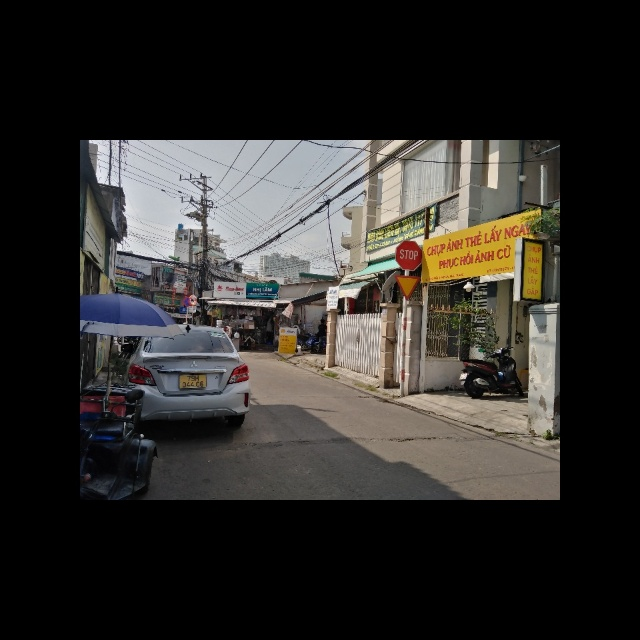Dừng lại: (396, 240, 422, 271)
Giao nhau với đường ưu tiên: (391, 274, 421, 301)
